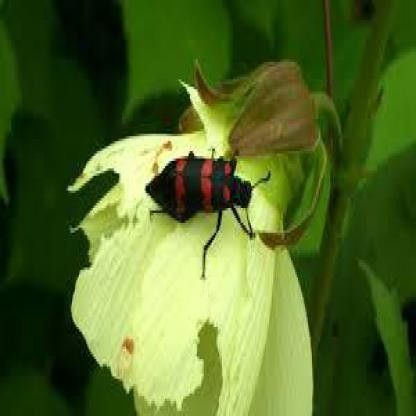blister beetle: (144, 149, 255, 250)
